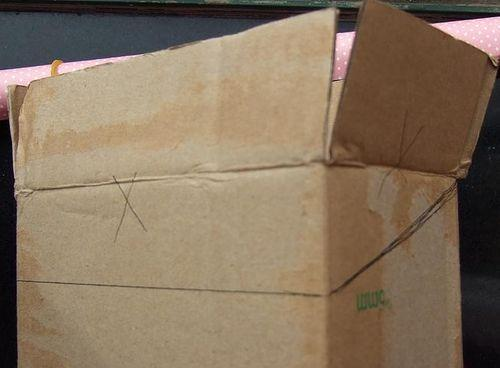cardboard: (9, 0, 499, 367)
